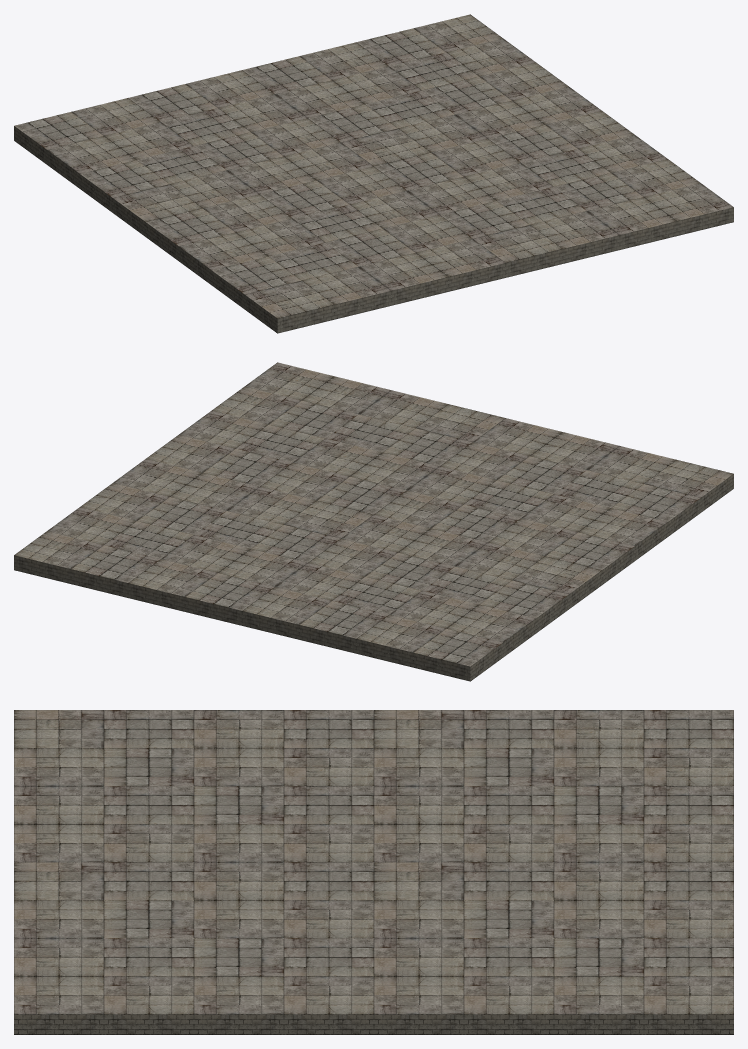
Rendered from Stage2Floor.fbx.
3 renders of one model, top to bottom at view 1: azimuth 30°, elevation 25°; view 2: azimuth 150°, elevation 25°; view 3: azimuth 270°, elevation 25°, orthographic. The views are drawn at different scales.
Visible parts, largest first — view 1: BB_16x16x1, BB_16x16x002, BB_16x16x008, BB_16x16x014; view 2: BB_16x16x008, BB_16x16x014, BB_16x16x1, BB_16x16x002; view 3: BB_16x16x002, BB_16x16x014, BB_16x16x1, BB_16x16x008.
Part boxes in pixels (left/top/right/bottom): BB_16x16x1: left=145, top=166, right=505, bottom=333; BB_16x16x002: left=374, top=111, right=733, bottom=277; BB_16x16x008: left=14, top=70, right=373, bottom=236; BB_16x16x014: left=242, top=14, right=601, bottom=166; BB_16x16x008: left=242, top=514, right=602, bottom=681; BB_16x16x014: left=14, top=459, right=373, bottom=625; BB_16x16x1: left=374, top=418, right=733, bottom=584; BB_16x16x002: left=146, top=362, right=505, bottom=514; BB_16x16x002: left=14, top=862, right=373, bottom=1034; BB_16x16x014: left=374, top=862, right=733, bottom=1034; BB_16x16x1: left=14, top=710, right=373, bottom=862; BB_16x16x008: left=374, top=710, right=733, bottom=862.
Size of the model in its own units: 3200 by 3200 by 100.
Materials: 1 (1 with a texture image).
